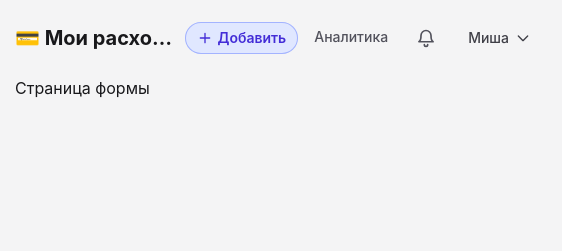
AppShell › меню пользователя › закрыто по умолчанию; открывается кликом, закрывается повторным кликом
Click the button with aria-label "Меню пользователя". click: (500, 38)
box: [456,18,543,58]
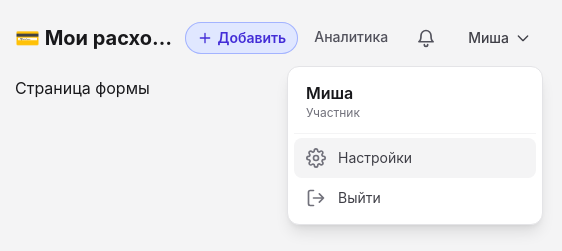
Expected: the menu is shown, [287,66,543,225]
Click the button with aria-label "Меню пользователя". click: (500, 38)
box: [456,18,543,58]
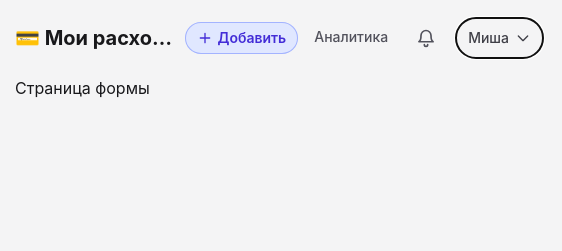
Expected: the menu is gone
